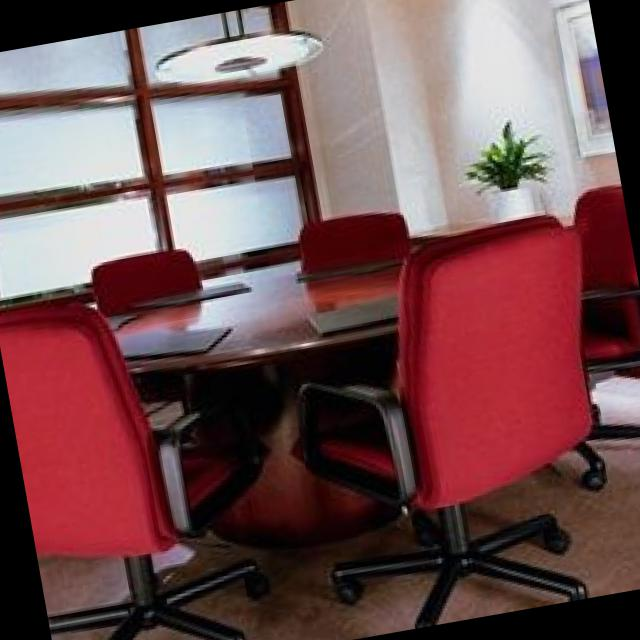2001: (0, 2, 303, 298)
cabinet door: (413, 213, 555, 233)
ceiling lamps: (157, 29, 323, 81)
chair: (92, 242, 212, 303), (306, 209, 410, 267)
chair -occluded-: (290, 214, 592, 618), (0, 295, 271, 640), (578, 181, 640, 435)
conference table: (61, 231, 567, 367)
painting crop: (557, 0, 614, 151)
place mat: (119, 324, 237, 354), (308, 290, 401, 327), (144, 283, 250, 302), (302, 263, 399, 277), (113, 309, 138, 326)
plant -x: (465, 116, 556, 216)
table -X: (12, 206, 581, 364)
